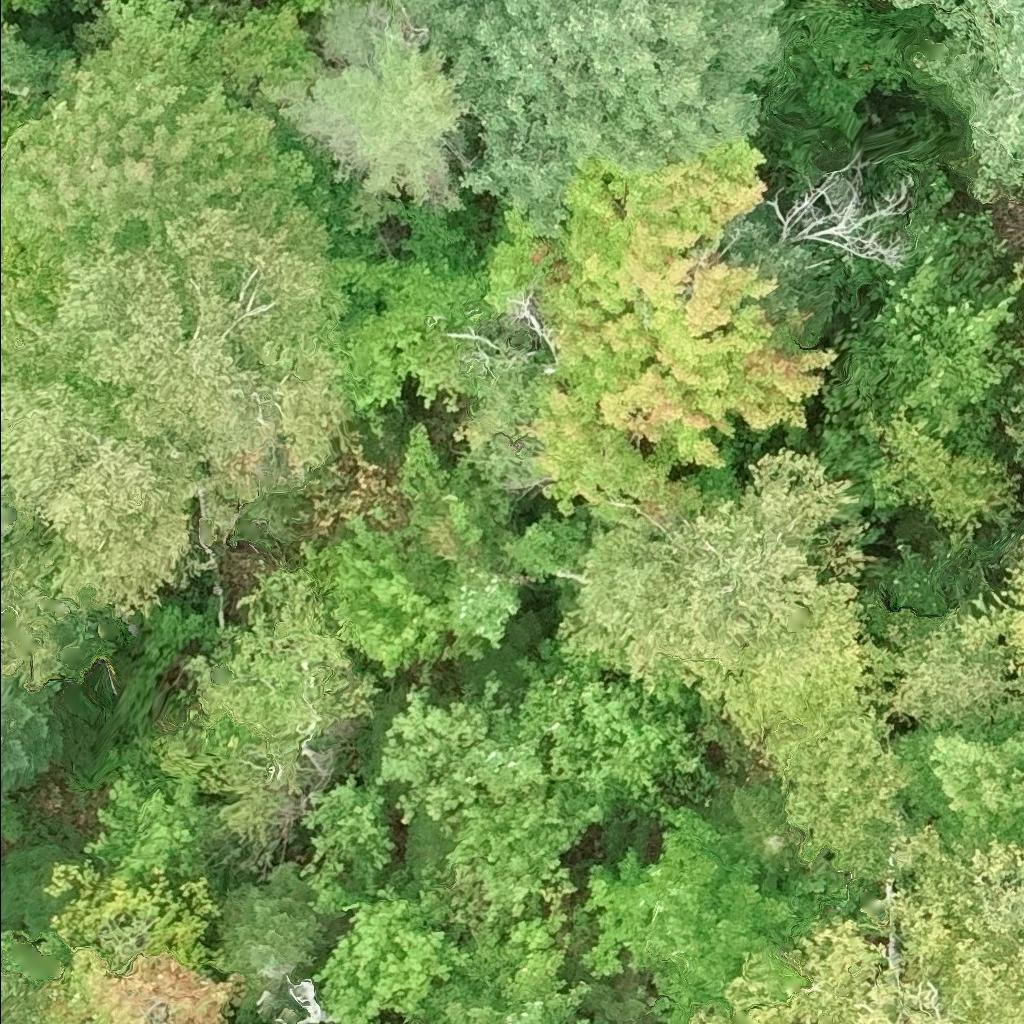crown: (485, 132, 840, 533), (38, 183, 360, 506), (551, 448, 883, 746), (394, 0, 787, 243), (0, 28, 355, 253), (0, 345, 234, 614), (295, 422, 520, 673), (576, 803, 822, 1023), (263, 0, 470, 235), (817, 244, 1023, 438), (182, 563, 386, 740), (327, 200, 488, 412), (411, 778, 602, 941), (693, 915, 956, 1023), (367, 672, 549, 828), (765, 706, 924, 878), (892, 0, 1023, 200), (891, 826, 1023, 1023), (536, 667, 702, 819), (866, 581, 1023, 727), (213, 861, 348, 1023), (311, 883, 461, 1023), (409, 930, 610, 1023), (886, 716, 1023, 852), (31, 944, 244, 1023), (84, 763, 212, 879), (298, 771, 397, 901), (705, 779, 803, 888), (0, 669, 68, 791), (0, 20, 68, 135), (997, 529, 1023, 685), (186, 0, 256, 19), (0, 948, 18, 1007), (270, 0, 350, 12), (1001, 416, 1023, 454), (1012, 696, 1023, 724), (401, 1017, 403, 1023)
